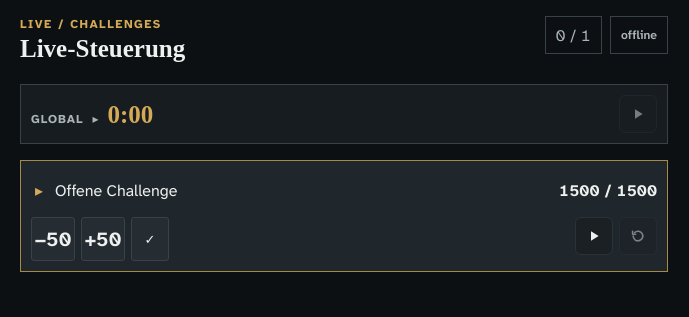
Live-Bedienseite › verwendet die measure-Schrittweite für Button, Kommando und optimistische Anzeige
Expected: the button named "Offene Challenge um 50 verringern" reads "−50", [31,217,75,261]
Click the button named "Offene Challenge um 50 erhöhen": [103, 239] box [81,217,125,261]
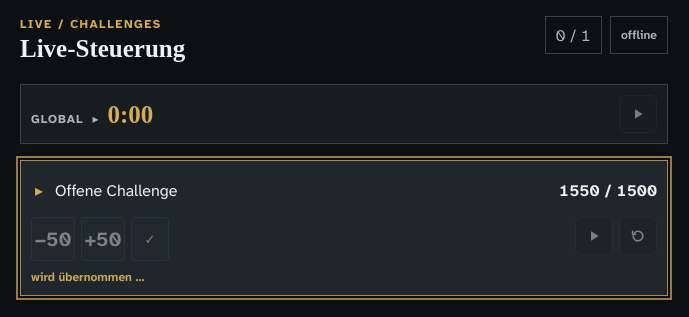
Result: the text "1550 / 1500" is shown at [559,180,657,200]
